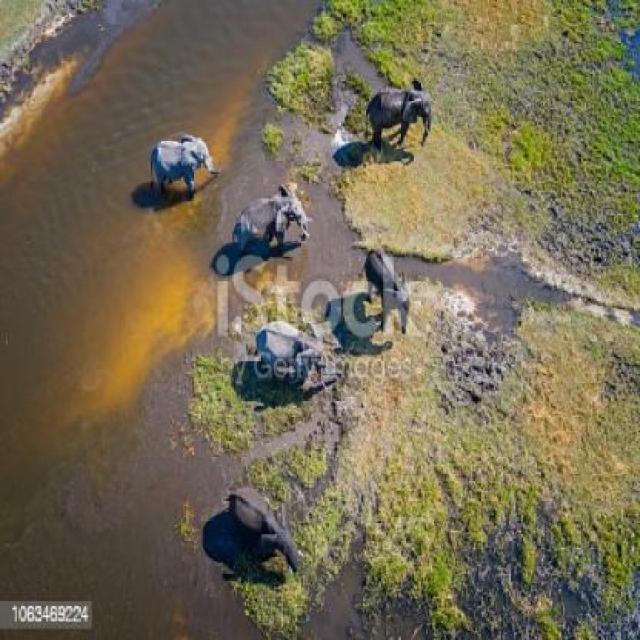elephant: (221, 480, 302, 577), (223, 173, 319, 253), (248, 326, 340, 397), (365, 63, 429, 154), (152, 118, 214, 202), (363, 230, 417, 315)
